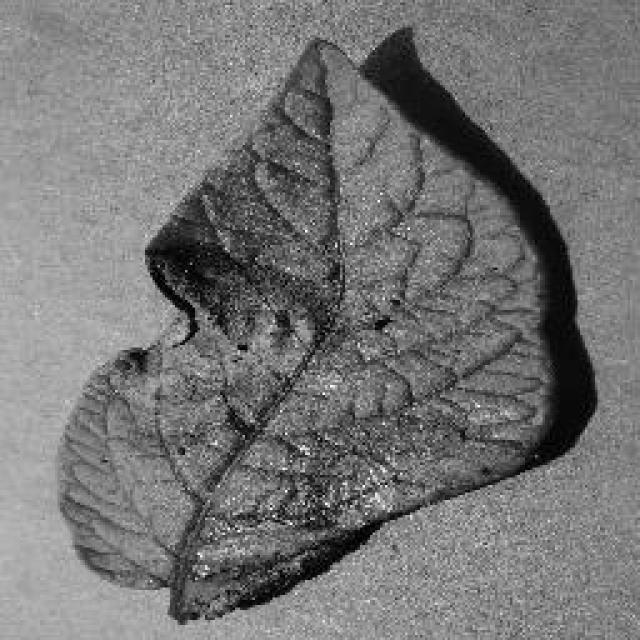Potato: (52, 25, 590, 623)
